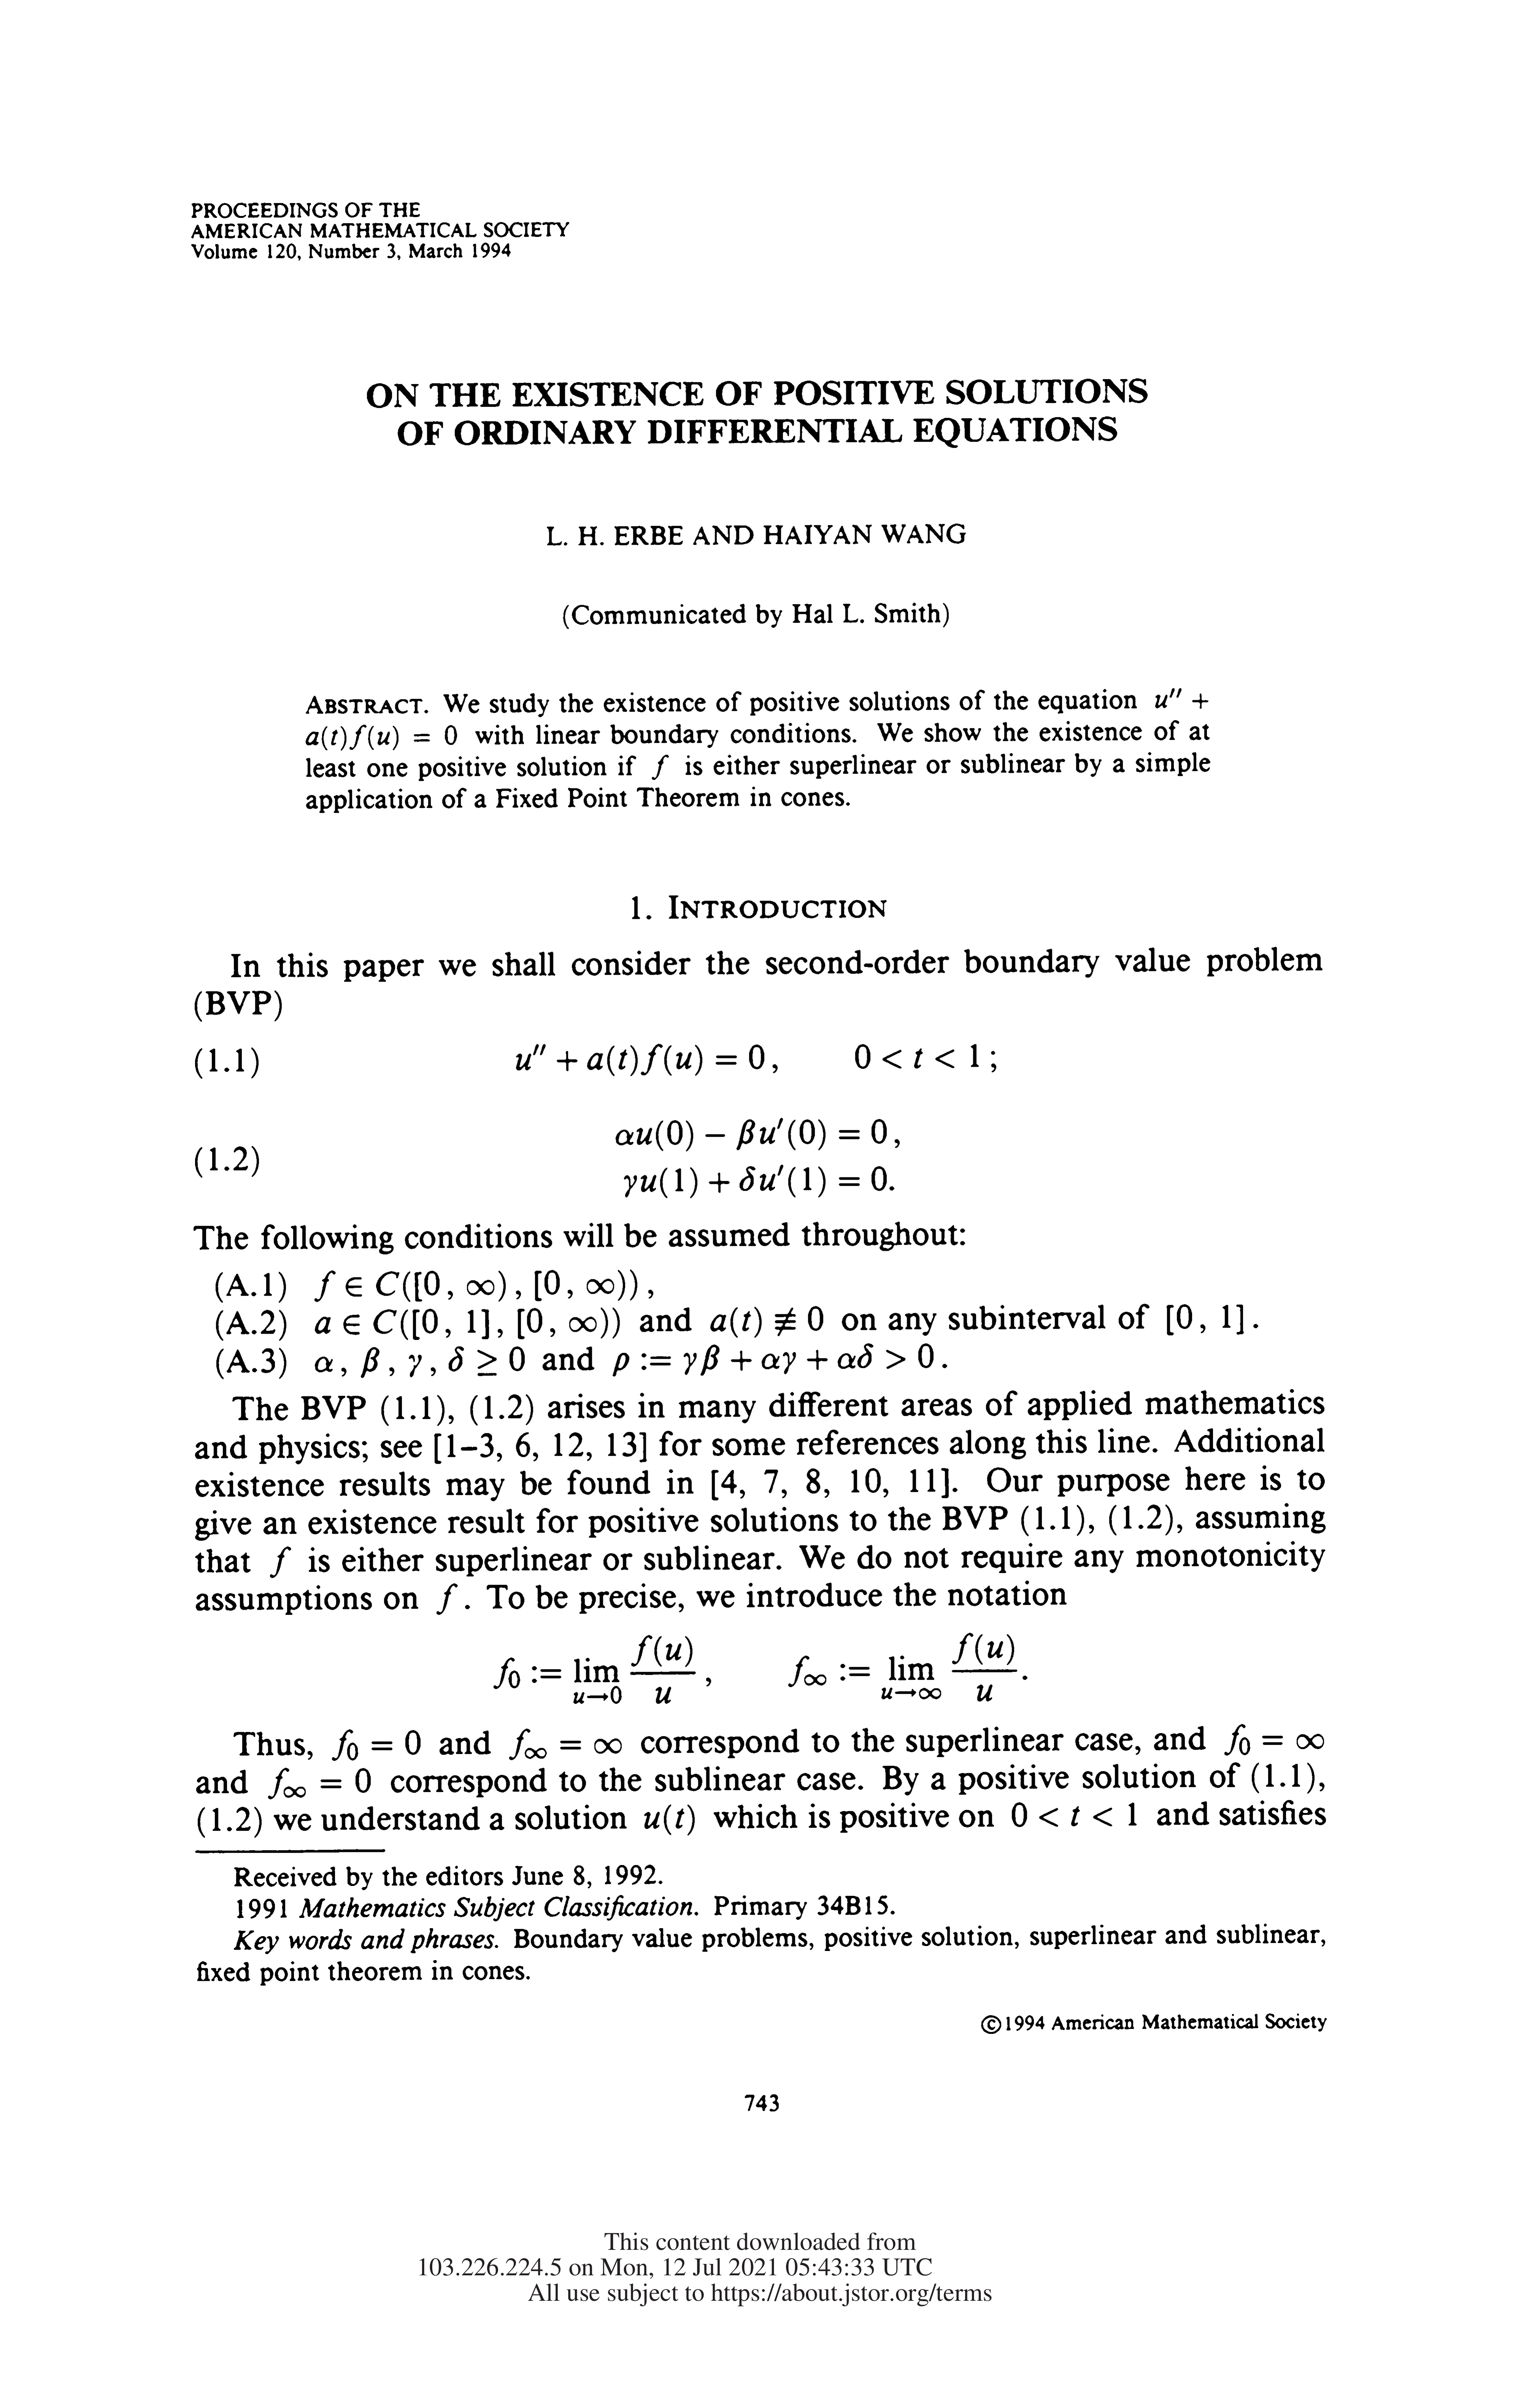maths: (789, 1633, 1016, 1702), (494, 1635, 696, 1703), (314, 1271, 636, 1302), (612, 1344, 934, 1376), (315, 1307, 619, 1339), (615, 1118, 887, 1151), (624, 1165, 887, 1199), (515, 1043, 764, 1076), (305, 724, 457, 750), (710, 1306, 824, 1337), (508, 1728, 620, 1760), (1225, 1725, 1323, 1756), (268, 1768, 370, 1798), (855, 1045, 978, 1069), (1013, 1802, 1135, 1826), (331, 1730, 421, 1761), (1167, 1304, 1244, 1335), (449, 1346, 524, 1376), (645, 1805, 694, 1835), (1155, 689, 1207, 708), (361, 1348, 394, 1378), (270, 1546, 291, 1577), (436, 1583, 457, 1614), (408, 1355, 435, 1378), (315, 1356, 345, 1376), (652, 755, 668, 780)
